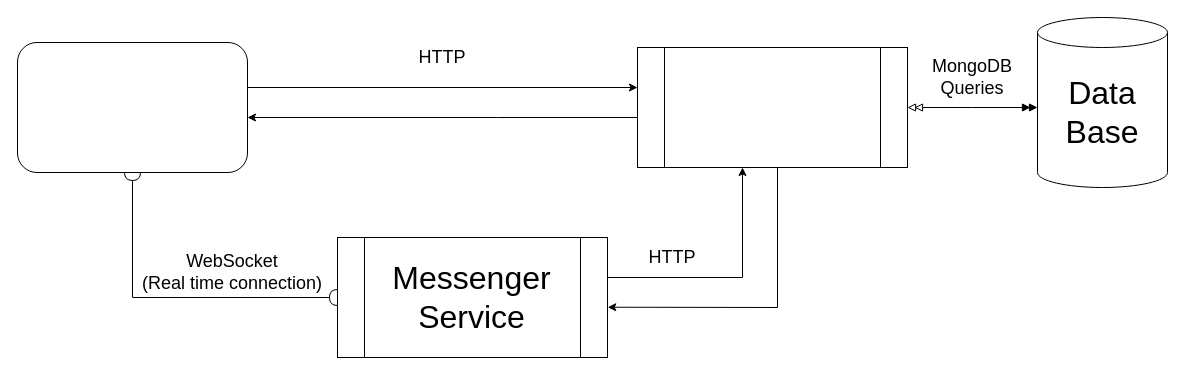
Image size: 1185x375. Some labels were removed from this diagram. Here are the shapes that lost their labels. From the top down, the box of each, then its label:
(16, 42, 248, 172): Client
(636, 46, 908, 168): Main Server
